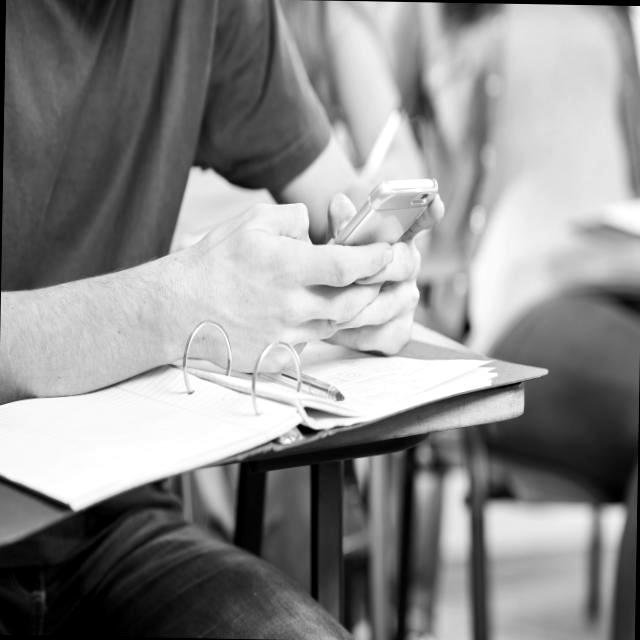phone: (302, 168, 442, 322)
